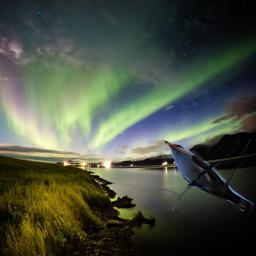Cuckoo: (162, 139, 254, 211)
